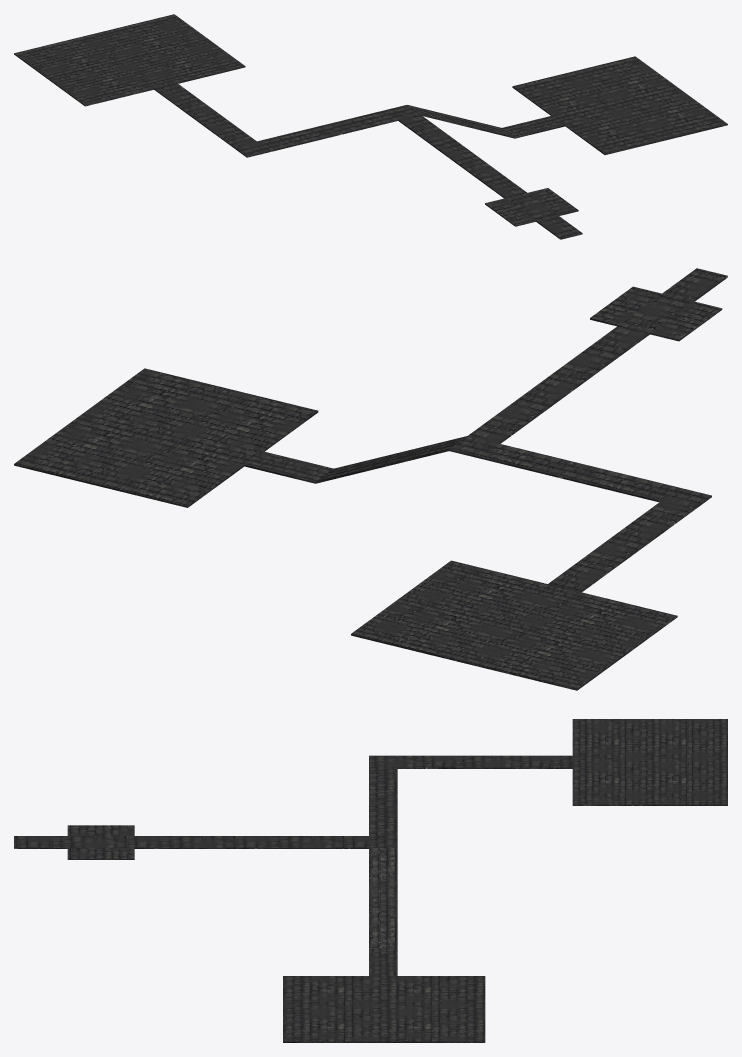
The model's file is Bathroom level roof.fbx.
3 renders of one model, top to bottom at view 1: azimuth 30°, elevation 25°; view 2: azimuth 150°, elevation 25°; view 3: azimuth 270°, elevation 25°, orthographic. The views are drawn at different scales.
Visible parts, largest first — view 1: Roof; view 2: Roof; view 3: Roof.
Boxes of the visible parts, bbox=[...] form: Roof: bbox=[14, 14, 727, 239]; Roof: bbox=[14, 268, 727, 690]; Roof: bbox=[14, 719, 727, 1042].
Bounding box in the file's own units: 2620 × 233 × 2906.
